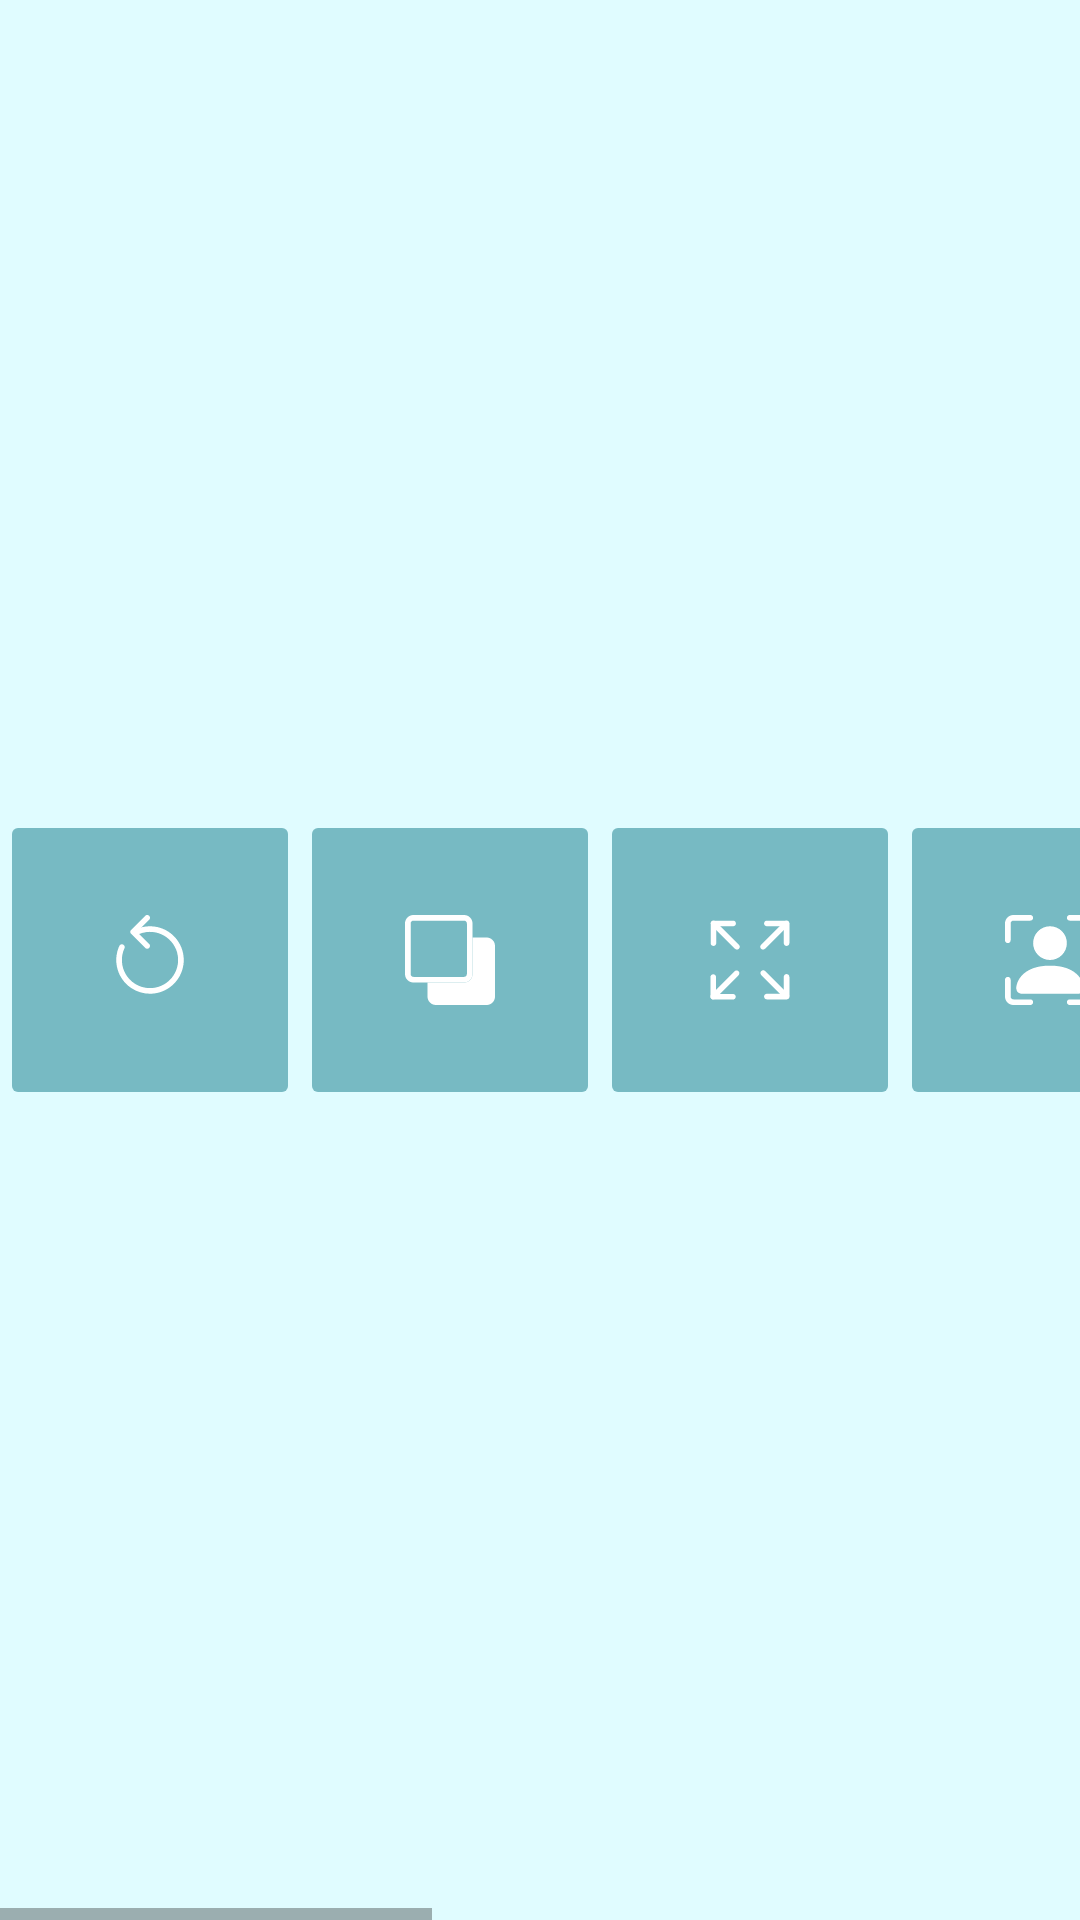

Screen size 1080px x 1920px. Icon name, then its center in pixels as (x,y):
arrow counterclockwise: (150,960)
arrows fullscreen: (750,960)
